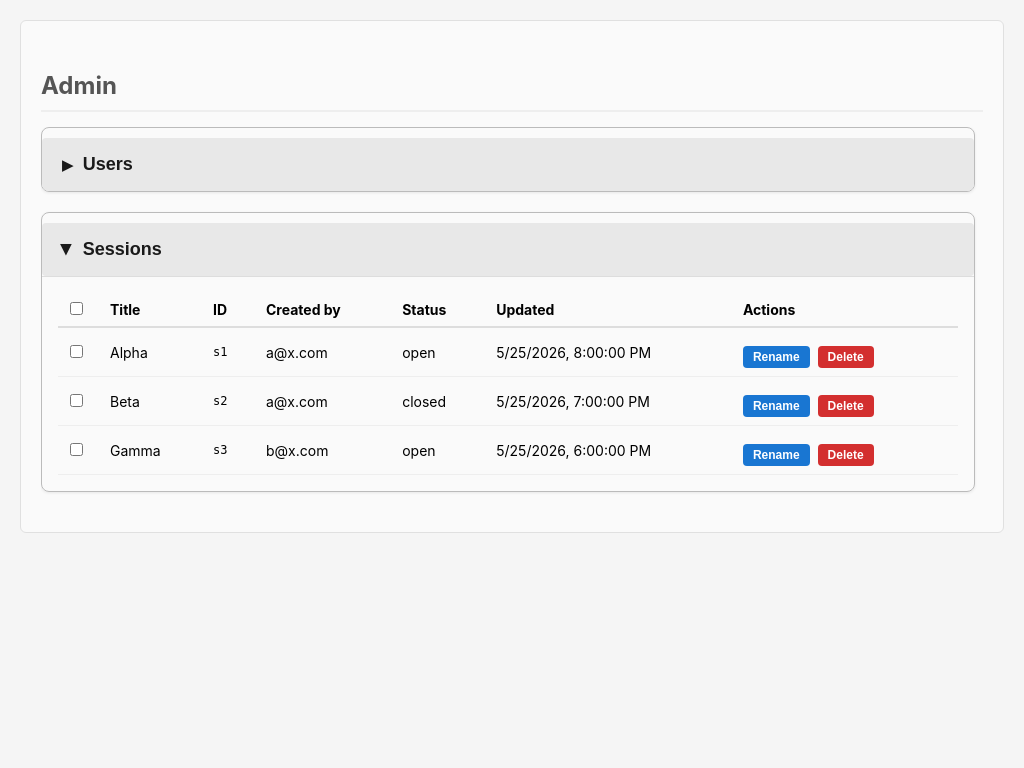
AdminUsers bulk session delete (SCRUM-583) › select-all selects every session and shows the bulk action bar
Click the checkbox named "Select all sessions" at (76, 308), box left=70, top=302, right=83, bottom=315
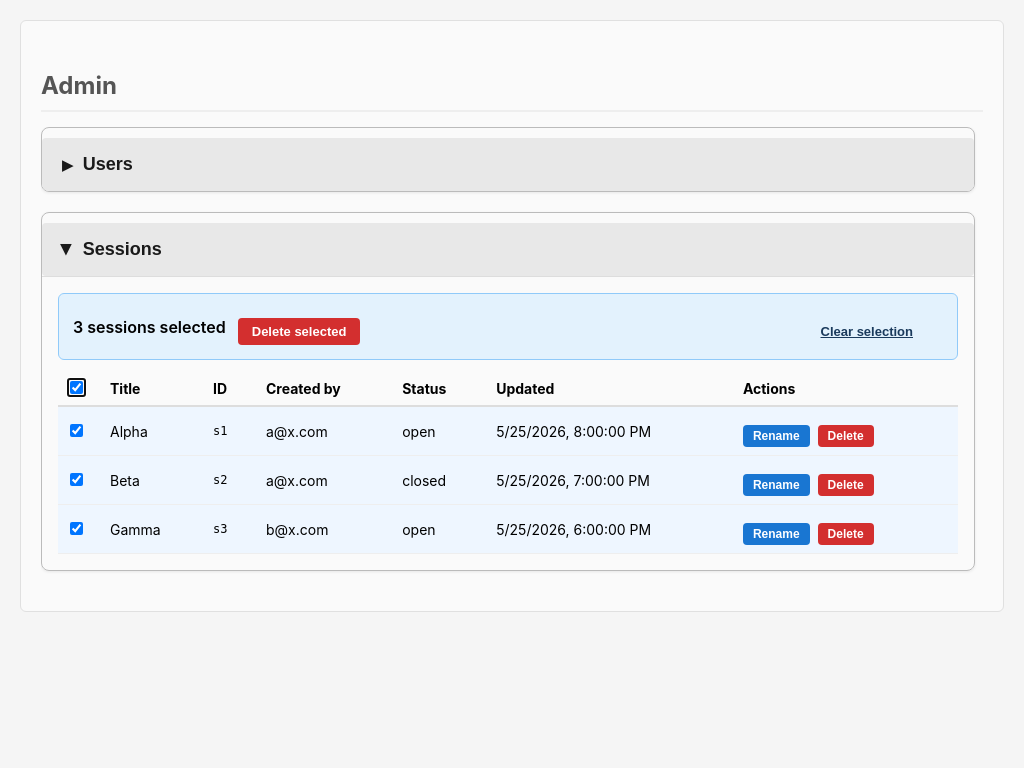
Check: the checkbox named "Select all sessions" is checked, box left=70, top=381, right=83, bottom=394
Check: the text "3 sessions selected" is shown, box left=73, top=316, right=226, bottom=336
Check: the button "Delete selected" is shown, box left=238, top=318, right=360, bottom=345
